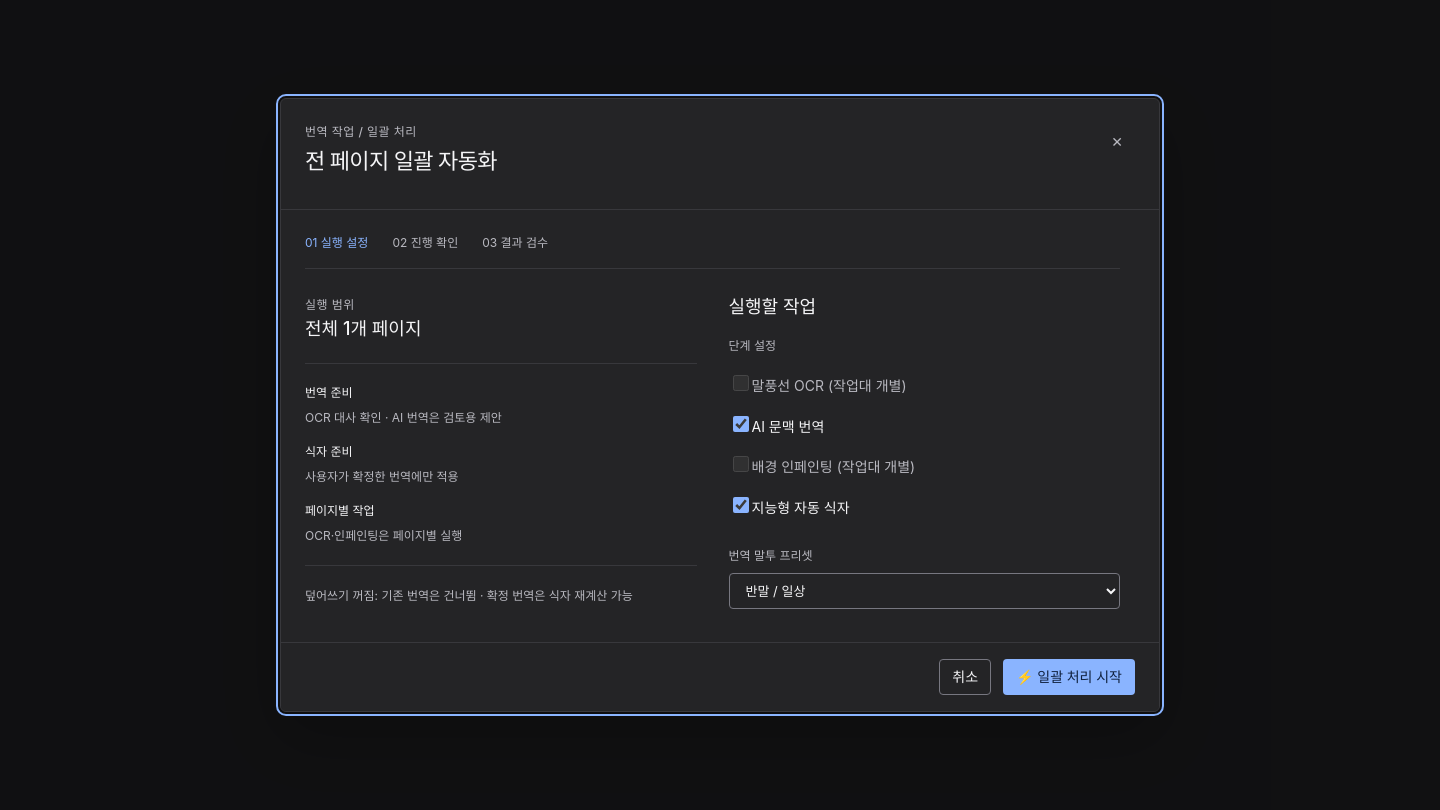
Test: BatchAutomationModal › starts batch processing and applies updated project upon completion
Click the button "⚡ 일괄 처리 시작" at (1069,677), box [1003,659,1135,695]
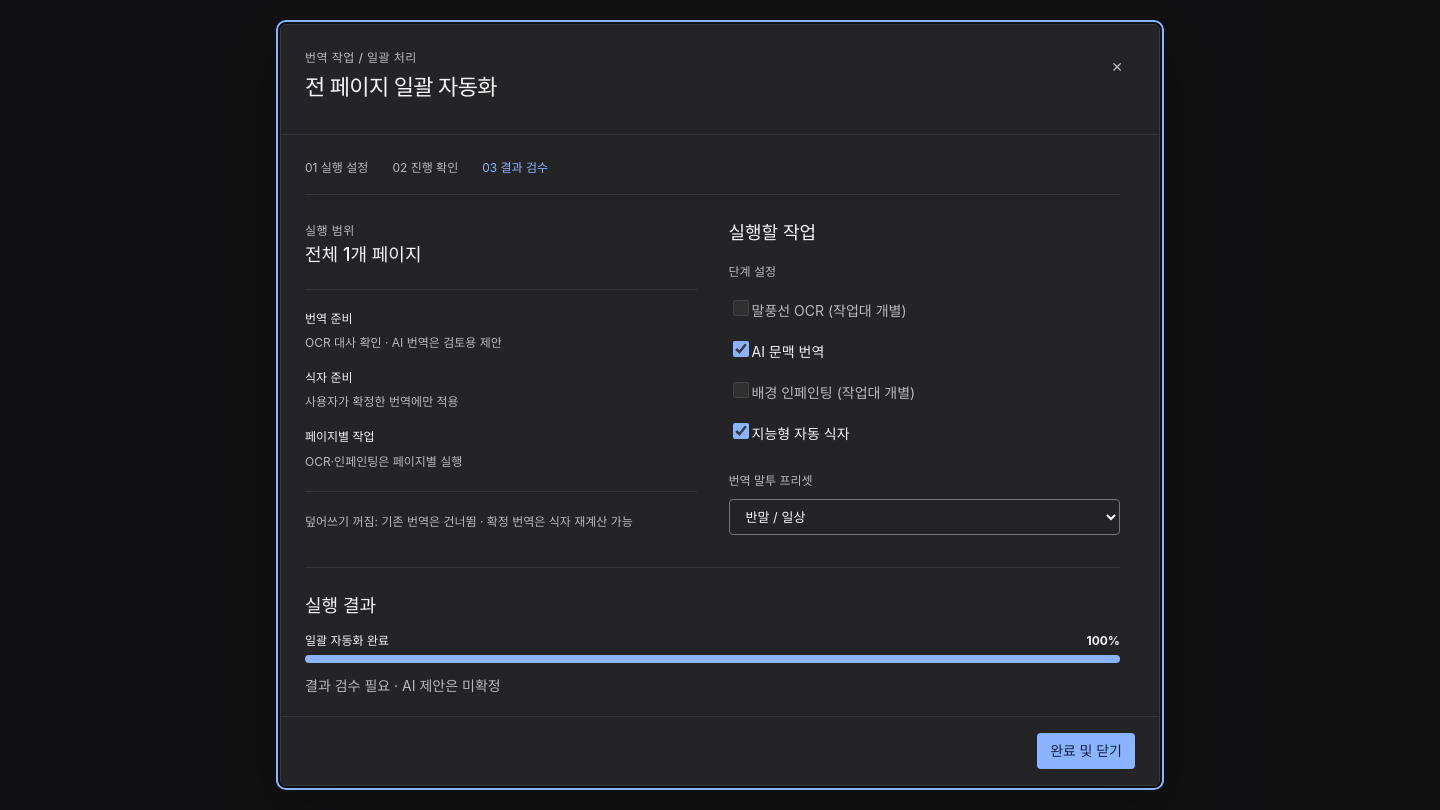
Now the text "일괄 자동화 완료" is shown, box [305,632,389,651]
